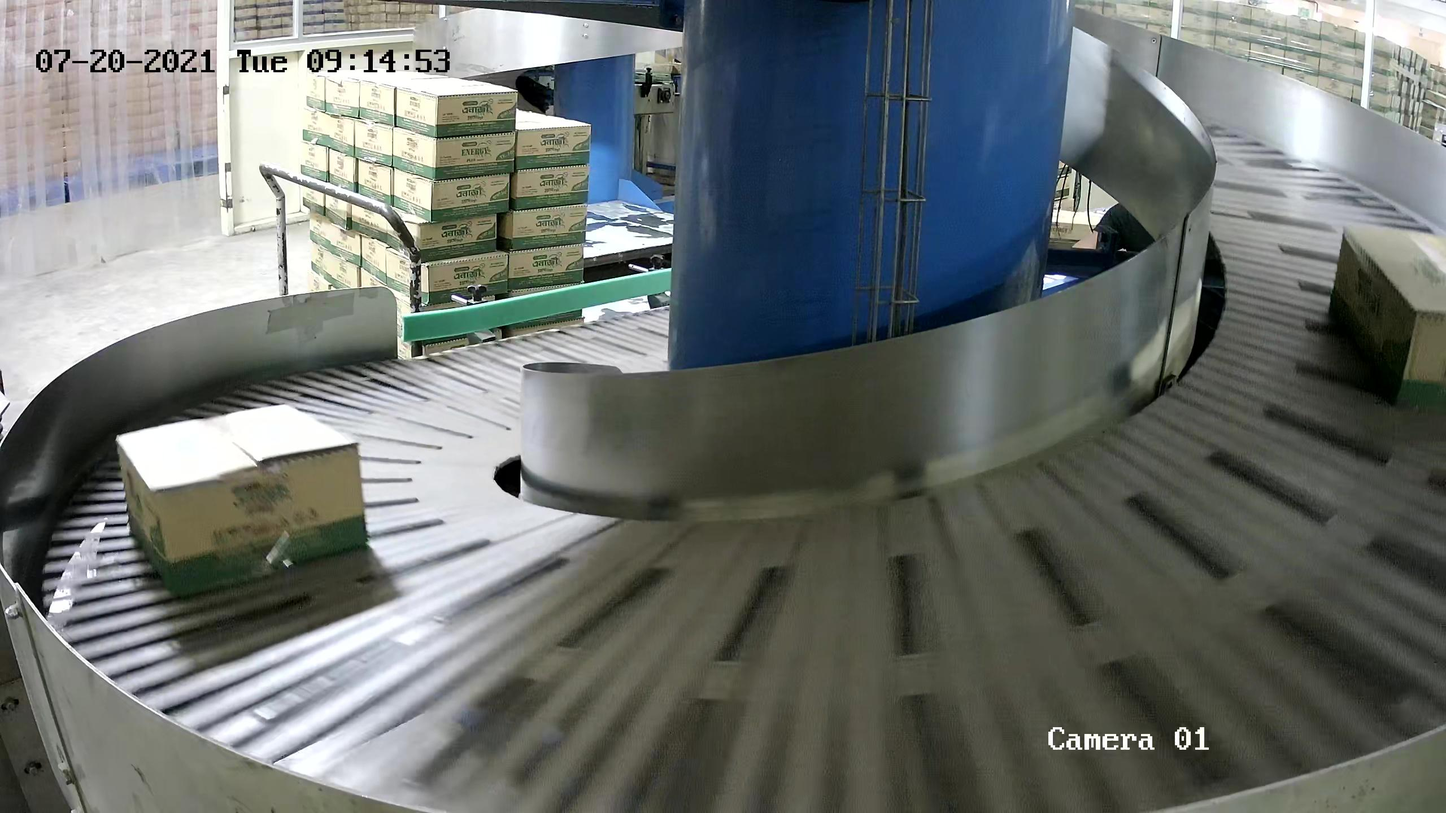Box: (116, 402, 370, 596), (1326, 224, 1446, 418)
